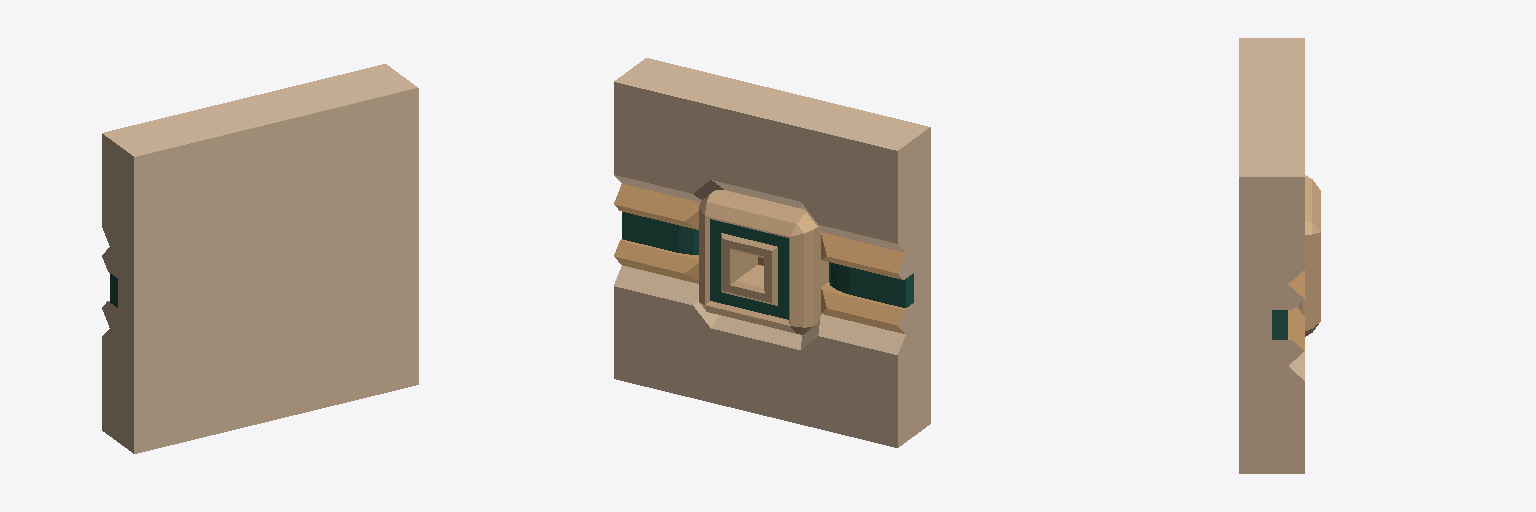
File: Puzzle_Wall_Conduit_Keyhole_Straight.obj
3 views of the same model, side by side, from view 1: azimuth 30°, elevation 25°; view 2: azimuth 150°, elevation 25°; view 3: azimuth 270°, elevation 25° (orthographic).
Visible parts, largest first — view 1: object3; view 2: object3, object5, object4, object2, object1; view 3: object3, object5.
Part boxes in pixels (left/top/right/bottom): object3: left=102, top=64, right=418, bottom=453; object3: left=614, top=58, right=930, bottom=447; object5: left=699, top=190, right=828, bottom=334; object4: left=710, top=219, right=788, bottom=319; object2: left=829, top=262, right=913, bottom=307; object1: left=622, top=212, right=698, bottom=254; object3: left=1239, top=38, right=1304, bottom=473; object5: left=1297, top=175, right=1320, bottom=336.
Size of the model in its own units: 1 by 1 by 0.25.